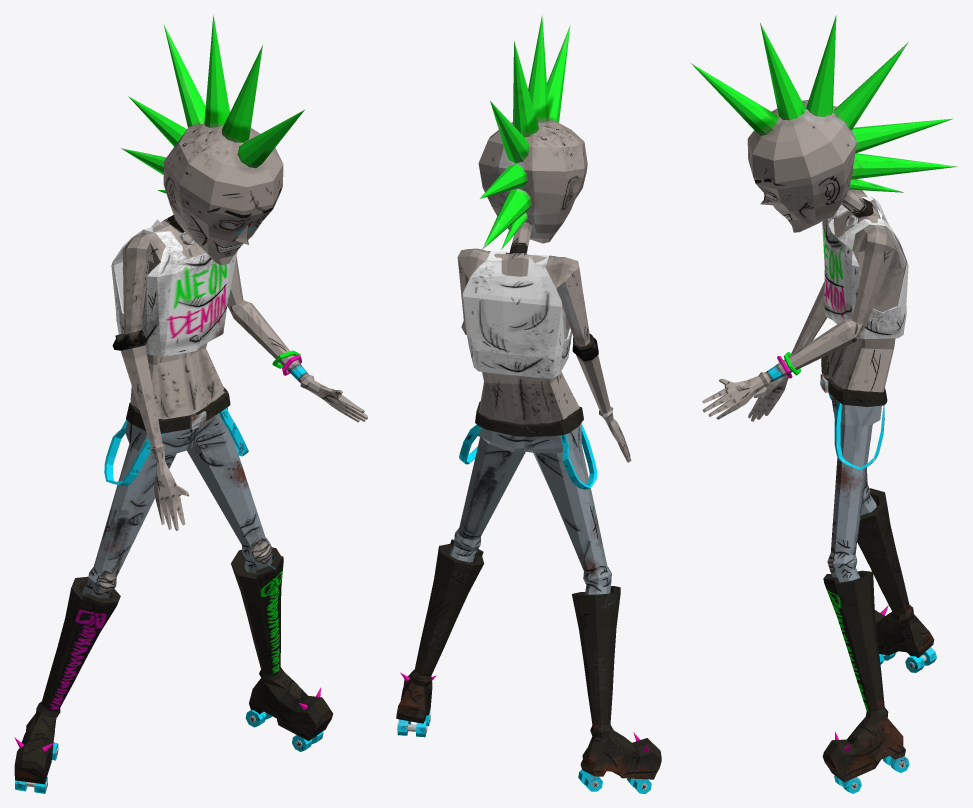
File: punkAnimation_000145.obj
3 renders of one model, left to right at view 1: azimuth 30°, elevation 25°; view 2: azimuth 150°, elevation 25°; view 3: azimuth 270°, elevation 25°, orthographic. The views are drawn at different scales.
Visible parts, largest first — view 1: Cube.004_Cube.003; view 2: Cube.004_Cube.003; view 3: Cube.004_Cube.003.
Boxes of the visible parts, box(x1,y1,x2,y2) form: Cube.004_Cube.003: box(14, 15, 367, 793); Cube.004_Cube.003: box(396, 15, 661, 793); Cube.004_Cube.003: box(691, 15, 957, 793).
Size of the model in its own units: 3.03 by 7.39 by 2.47.
